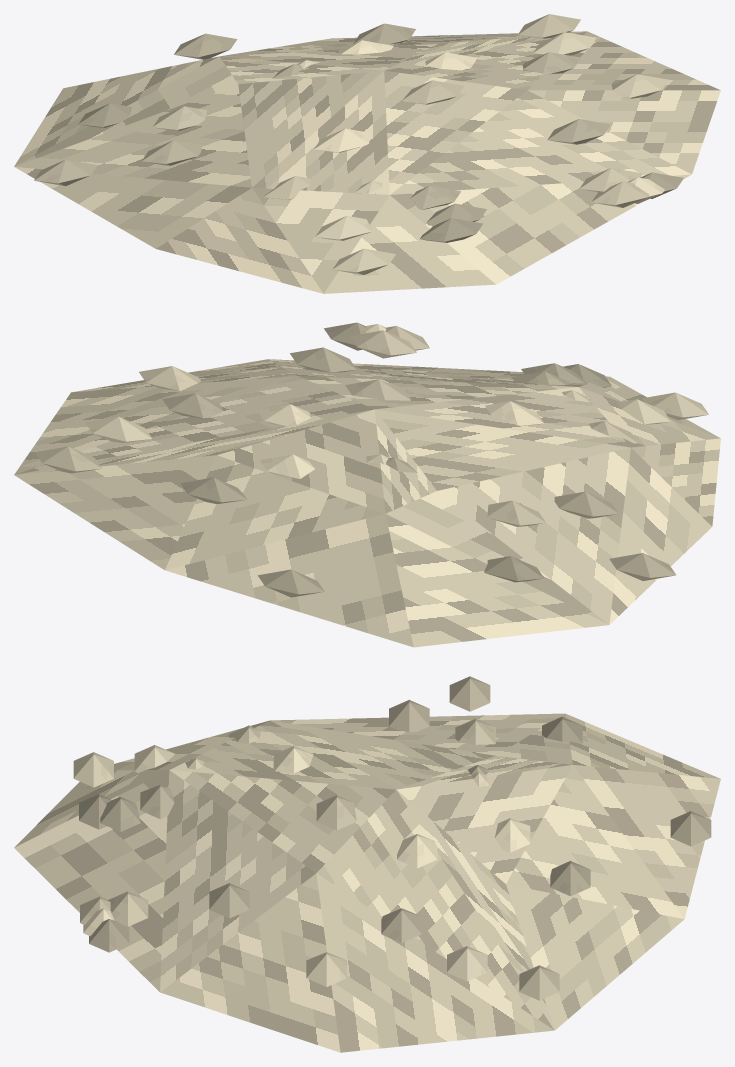
The model's file is dry_rice.glb.
3 views of the same model, one above another, from view 1: azimuth 30°, elevation 25°; view 2: azimuth 150°, elevation 25°; view 3: azimuth 270°, elevation 25° (orthographic). The views are drawn at different scales.
Visible parts, largest first — view 1: block_loose dry ingredients, block_loose grain 8, block_loose grain 1, block_loose grain 19, block_loose grain 20, block_loose grain 16, block_loose grain 0, block_loose grain 7, block_loose grain 24, block_loose grain 27, block_loose grain 5, block_loose grain 3 (+13 smaller); view 2: block_loose dry ingredients, block_loose grain 8, block_loose grain 19, block_loose grain 13, block_loose grain 7, block_loose grain 16, block_loose grain 23, block_loose grain 27, block_loose grain 20, block_loose grain 1, block_loose grain 17, block_loose grain 25 (+10 smaller); view 3: block_loose dry ingredients, block_loose grain 8, block_loose grain 19, block_loose grain 1, block_loose grain 7, block_loose grain 20, block_loose grain 27, block_loose grain 3, block_loose grain 23, block_loose grain 18, block_loose grain 24, block_loose grain 16 (+11 smaller).
Boxes of the visible parts, x1,y1,x2,y2 form: block_loose dry ingredients: (14, 31, 720, 293); block_loose grain 8: (34, 159, 97, 186); block_loose grain 1: (332, 248, 395, 274); block_loose grain 19: (174, 33, 237, 59); block_loose grain 20: (547, 119, 610, 144); block_loose grain 16: (141, 140, 202, 165); block_loose grain 0: (420, 218, 482, 242); block_loose grain 7: (517, 14, 580, 38); block_loose grain 24: (402, 80, 464, 104); block_loose grain 27: (533, 32, 596, 55); block_loose grain 5: (315, 216, 372, 240); block_loose grain 3: (612, 74, 668, 98); block_loose dry ingredients: (14, 359, 720, 647); block_loose grain 8: (609, 553, 675, 580); block_loose grain 19: (258, 569, 324, 597); block_loose grain 13: (350, 330, 416, 358); block_loose grain 7: (35, 446, 101, 473); block_loose grain 16: (554, 491, 618, 518); block_loose grain 23: (180, 477, 246, 503); block_loose grain 27: (85, 416, 151, 442); block_loose grain 20: (290, 347, 356, 372); block_loose grain 1: (642, 392, 708, 419); block_loose grain 17: (487, 500, 545, 526); block_loose grain 25: (484, 556, 543, 582); block_loose dry ingredients: (14, 713, 720, 1052); block_loose grain 8: (449, 676, 490, 711); block_loose grain 19: (670, 811, 711, 846); block_loose grain 1: (73, 752, 113, 787); block_loose grain 7: (519, 965, 559, 1000); block_loose grain 20: (209, 883, 249, 918); block_loose grain 27: (447, 946, 487, 981); block_loose grain 3: (306, 952, 346, 986); block_loose grain 23: (550, 861, 590, 896); block_loose grain 18: (381, 908, 421, 943); block_loose grain 24: (316, 795, 356, 830); block_loose grain 16: (389, 699, 429, 732).
Size of the model in its own units: 0.0888 by 0.011 by 0.0755.
1 material, 1 textured.
